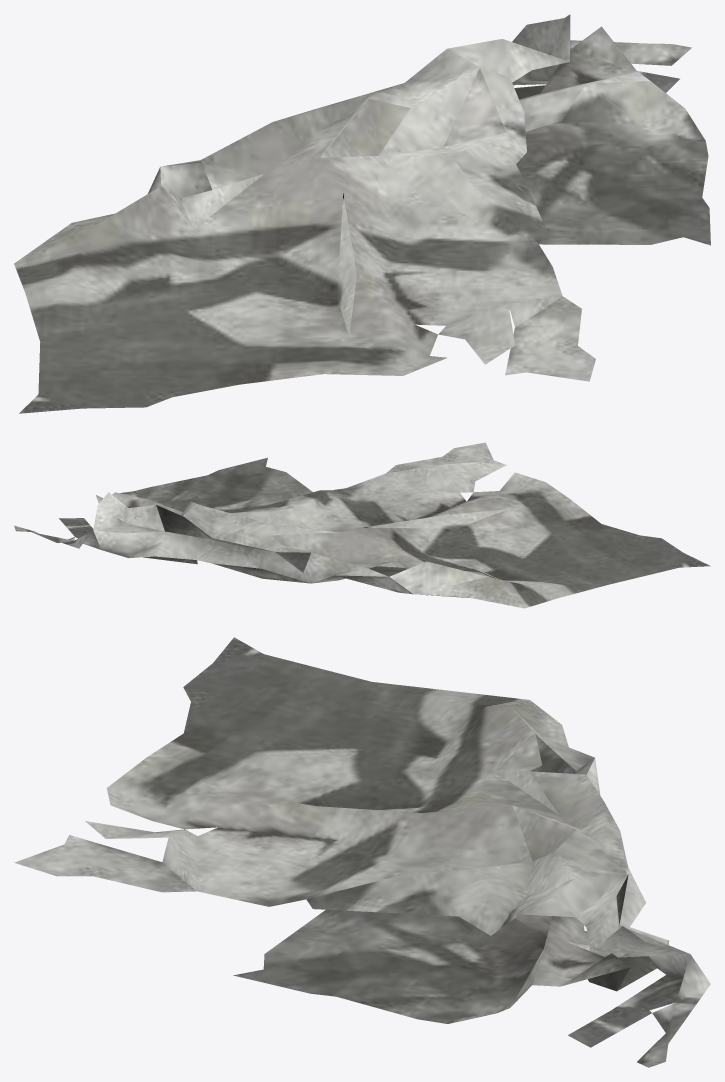
The model's file is rag_sheet_scrap_2_lod1_web.glb.
The picture shows the model from 3 angles, top to bottom: view 1: azimuth 30°, elevation 25°; view 2: azimuth 150°, elevation 25°; view 3: azimuth 270°, elevation 25°; orthographic projection. The views are drawn at different scales.
Visible parts, largest first — view 1: rag_sheet_scrap_2_Cloth; view 2: rag_sheet_scrap_2_Cloth; view 3: rag_sheet_scrap_2_Cloth.
Boxes of the visible parts, x1=… form: rag_sheet_scrap_2_Cloth: x1=14, y1=14, x2=710, y2=413; rag_sheet_scrap_2_Cloth: x1=14, y1=442, x2=710, y2=608; rag_sheet_scrap_2_Cloth: x1=14, y1=637, x2=710, y2=1067.
Bounding box in the file's own units: 0.8681 × 0.0783 × 0.5939.
1 material, 1 textured.
